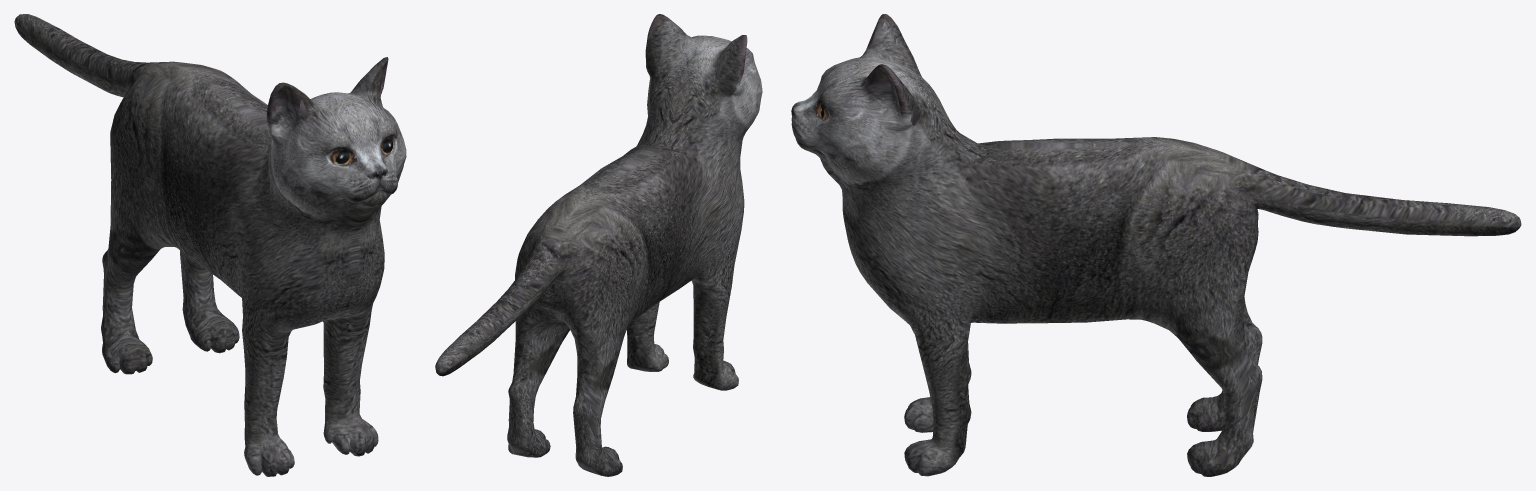
File: AmericanShorthair.glb
3 renders of one model, left to right at view 1: azimuth 30°, elevation 25°; view 2: azimuth 150°, elevation 25°; view 3: azimuth 270°, elevation 25°, orthographic. The views are drawn at different scales.
Visible parts, largest first — view 1: Cat_Base_1.002; view 2: Cat_Base_1.002; view 3: Cat_Base_1.002.
Boxes of the visible parts, box(x1,y1,x2,y2) form: Cat_Base_1.002: box(14, 14, 406, 476); Cat_Base_1.002: box(435, 14, 762, 476); Cat_Base_1.002: box(791, 14, 1521, 476).
Size of the model in its own units: 1.27 by 3.8 by 6.15.
Materials: 1 (1 with a texture image).
